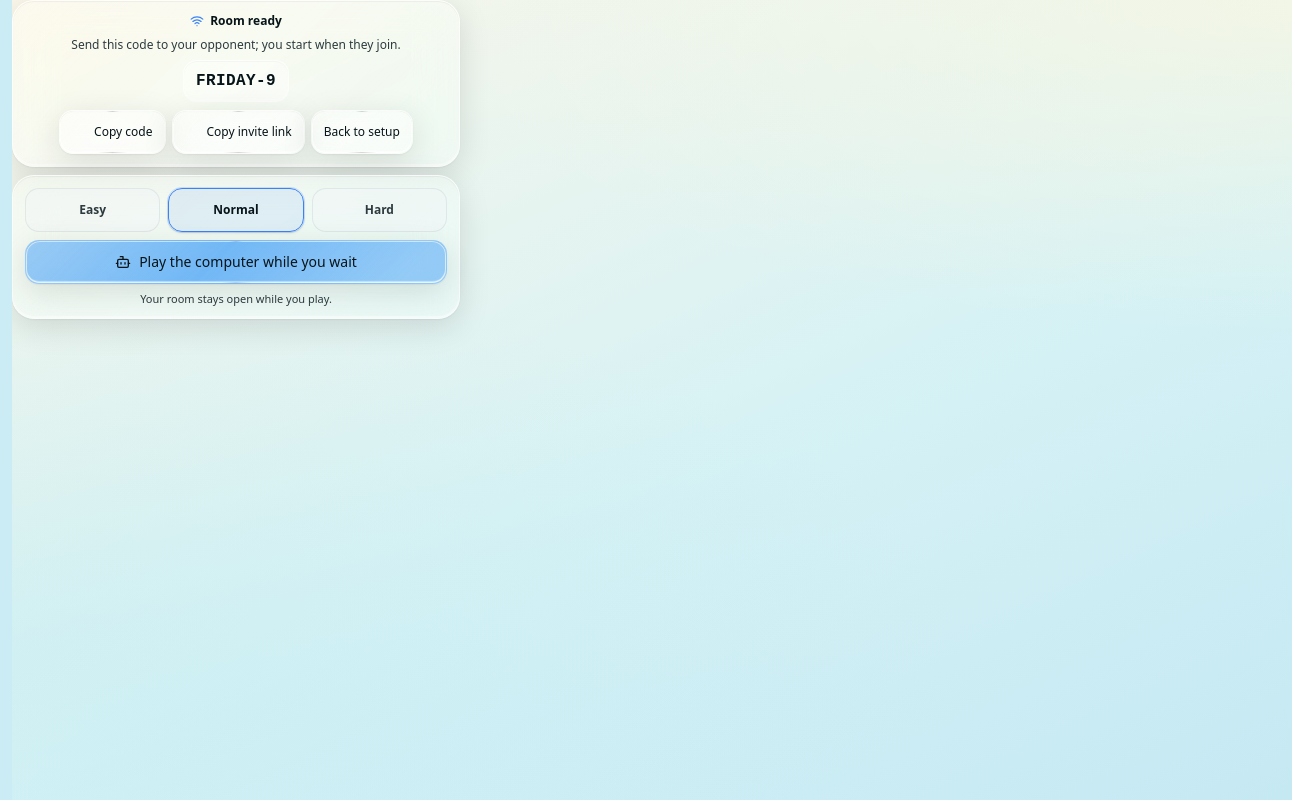
Scenario: OnlineGameSurface play while you wait (created room) › keeps the invitation one tap away while playing
Click the button "Play the computer while you wait" at (236, 262), box [25,240,447,284]
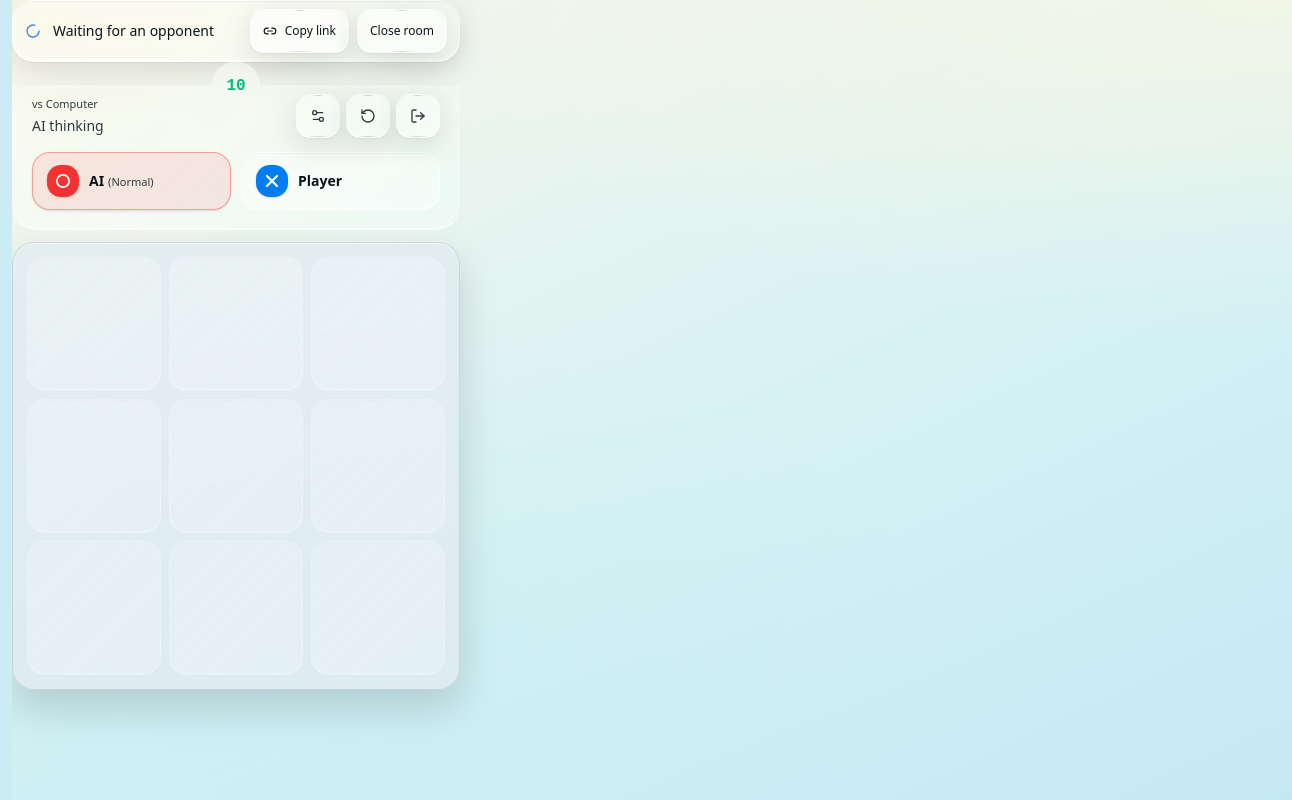
Click the button "Copy link" at (299, 31), box [250,9,349,53]
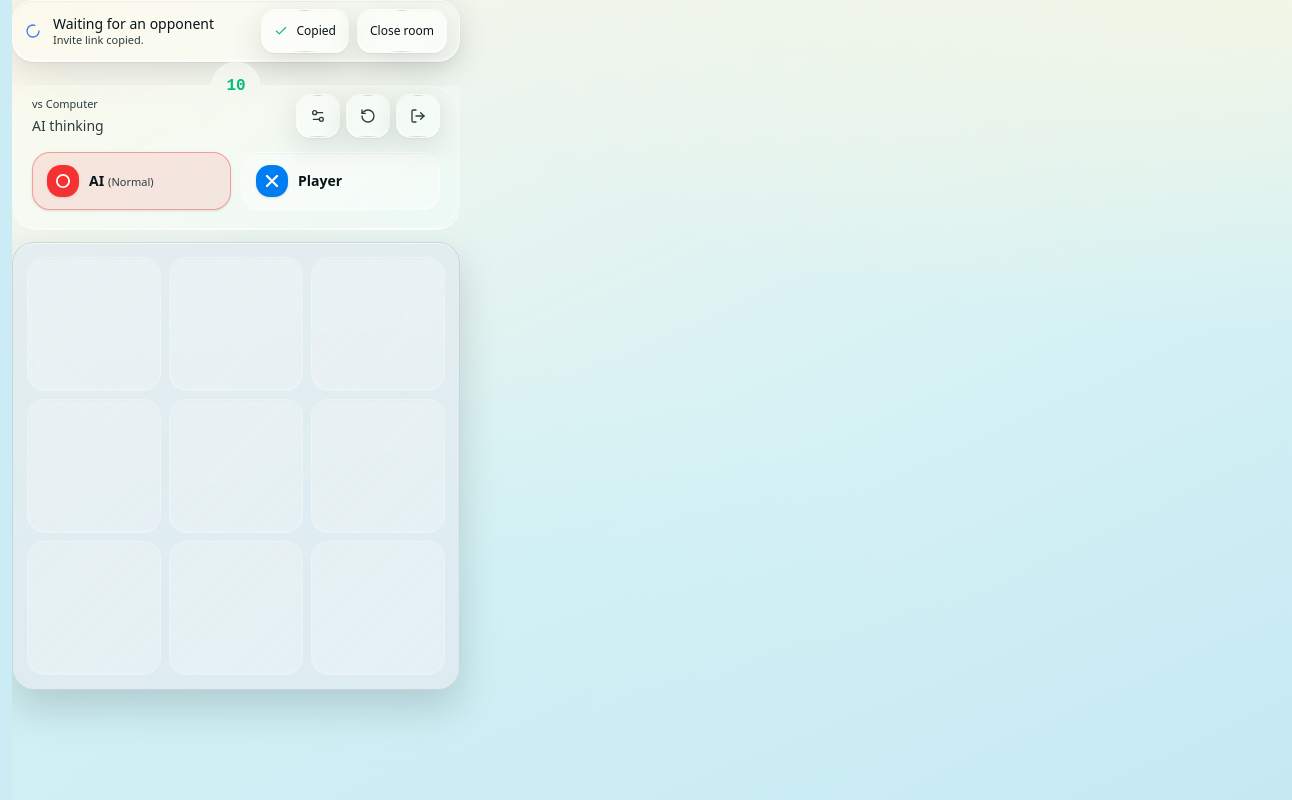
Now the button "Copied" is shown, box [262,9,349,53]
